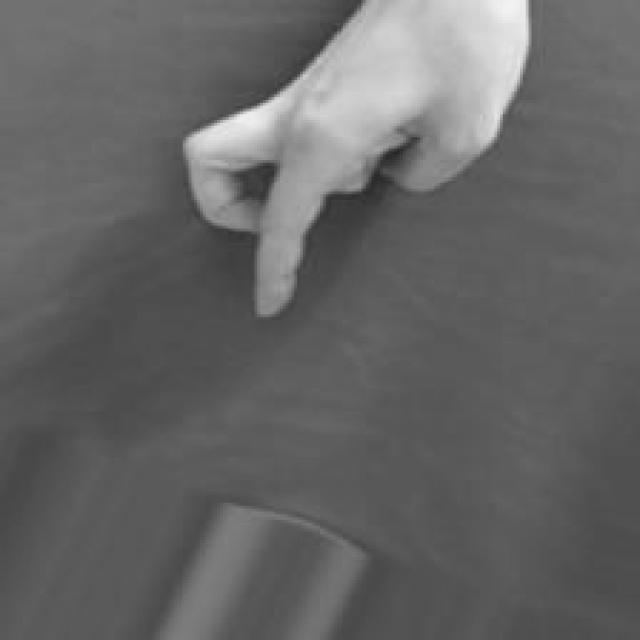P: (173, 0, 530, 328)
